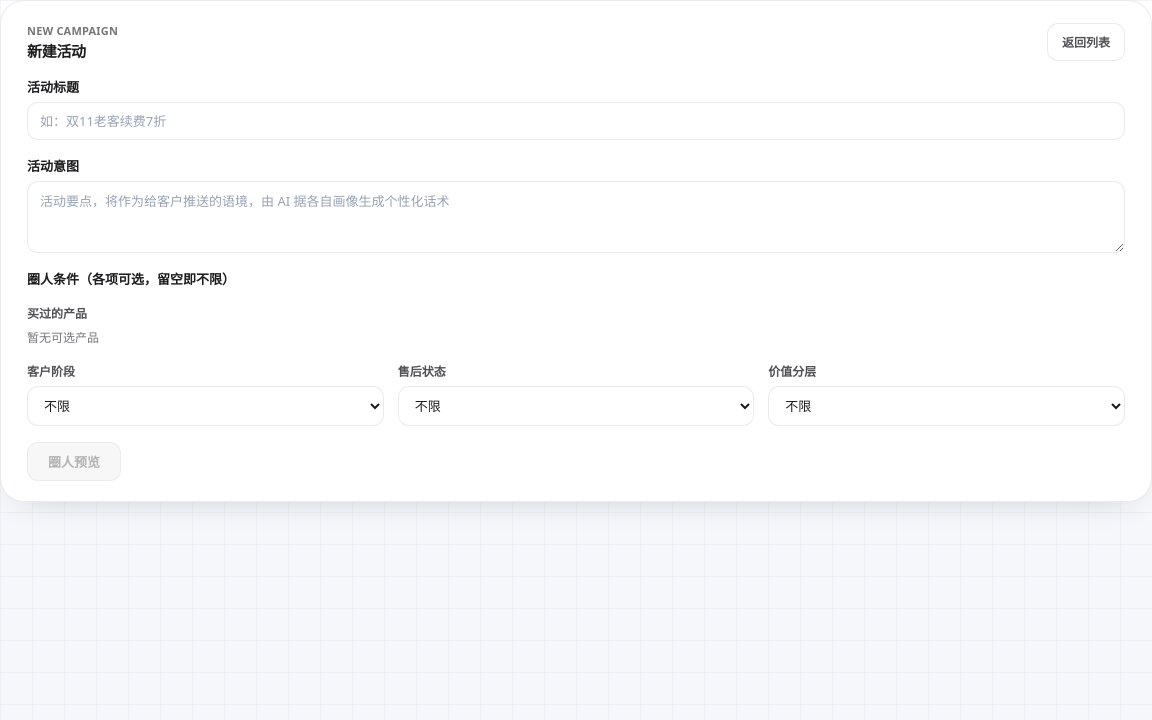
CampaignCreate 建活动表单 › 命中 0 人显示提示
Step 1. Type "A" into the field with placeholder "如：双11老客续费7折" → coordinates (576, 121), box [27, 102, 1125, 140]
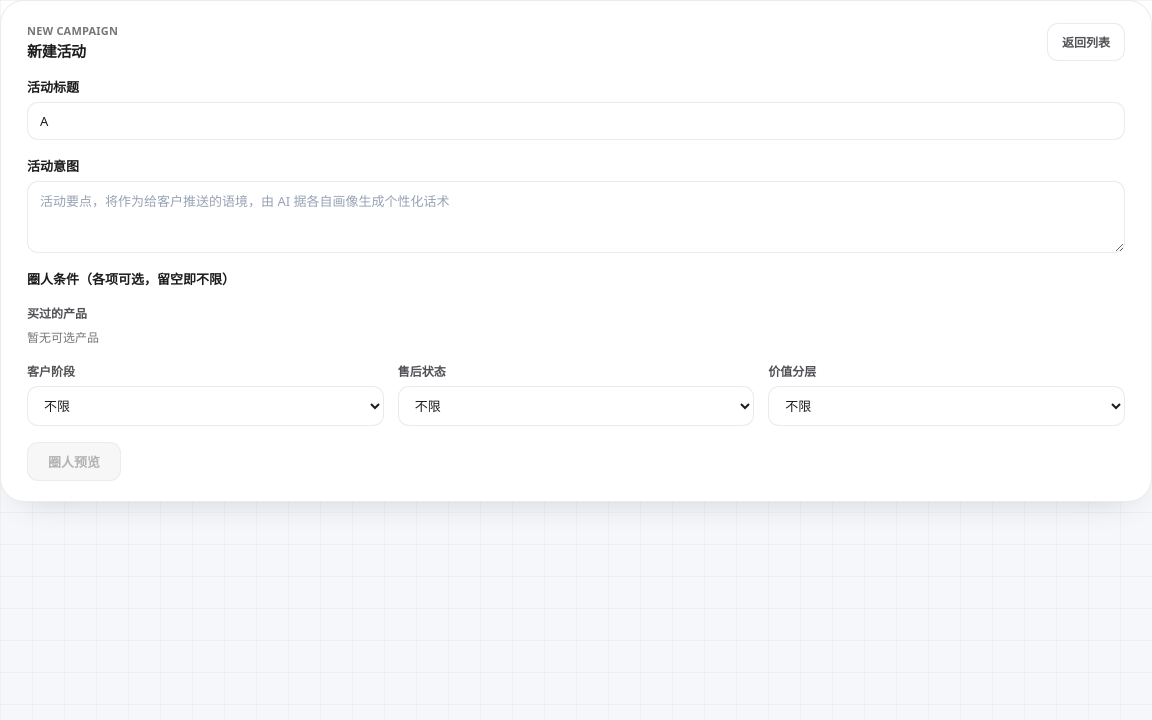
Step 2. Type "x" into the text box with placeholder "活动要点，将作为给客户推送的语境，由 AI 据各自画像生成个性化话术" → coordinates (576, 217), box [27, 181, 1125, 253]
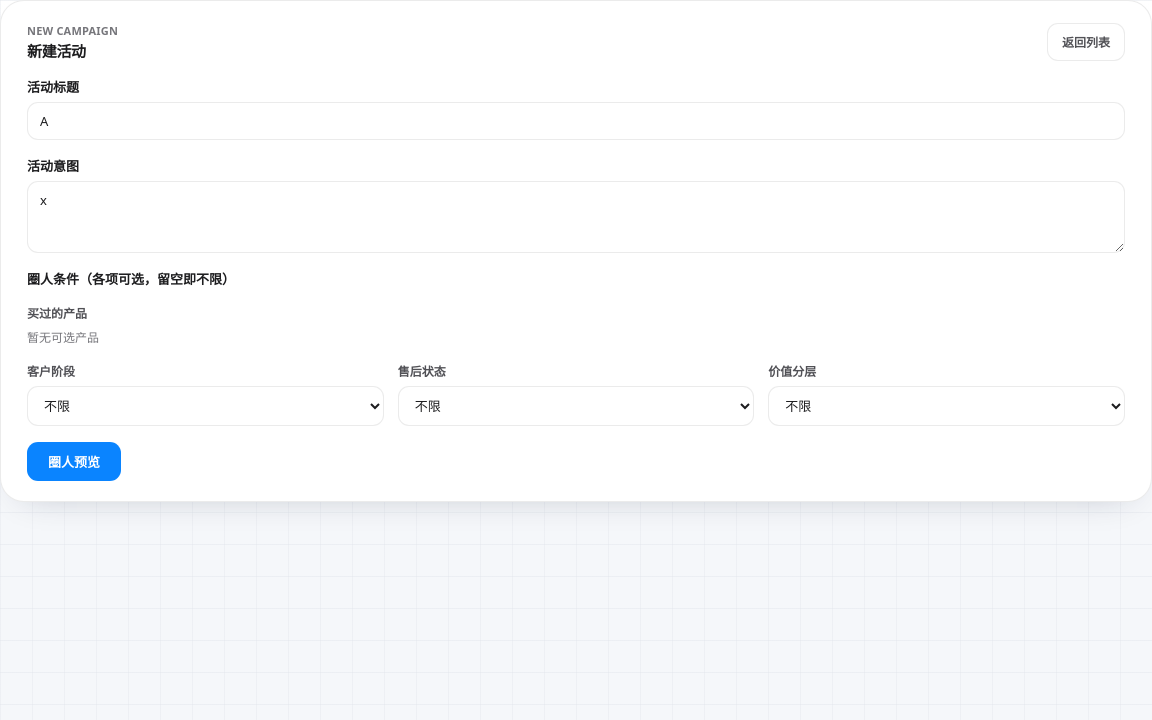
Step 3. Click the button "圈人预览" → coordinates (74, 462), box [27, 442, 121, 481]
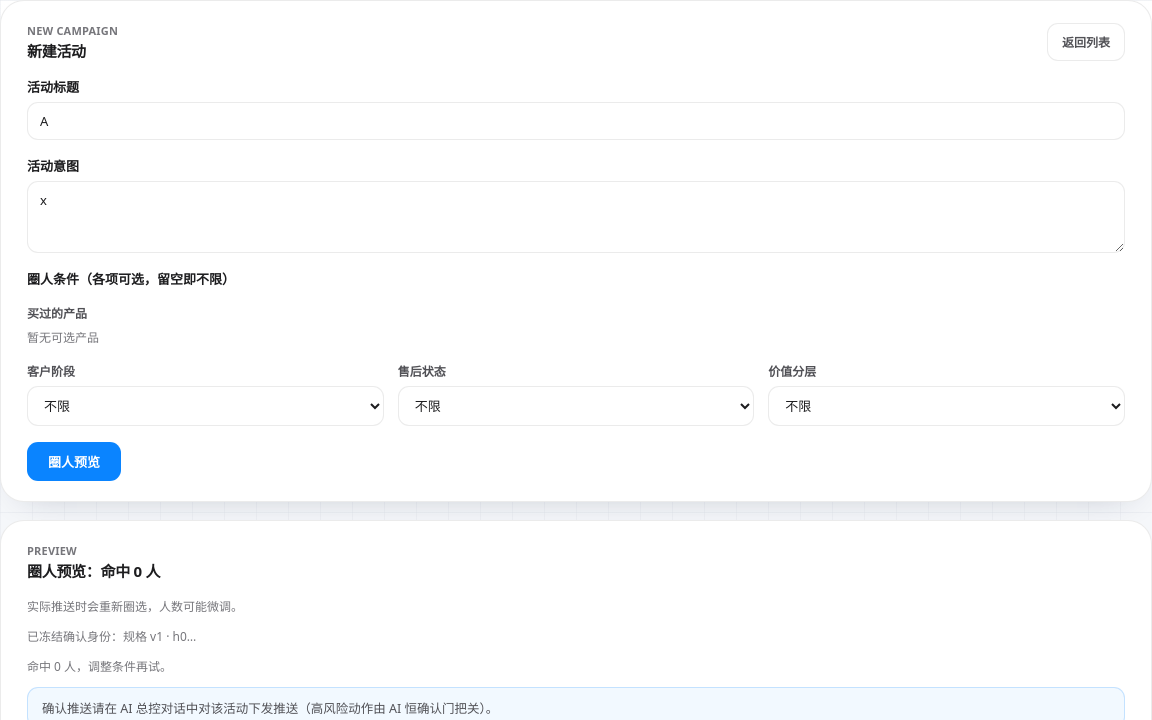
Expected: the text "命中 0 人，调整条件再试。" is shown, [27, 658, 172, 675]
